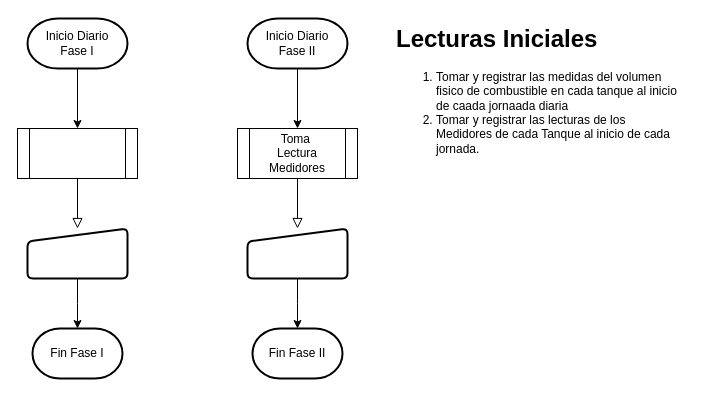
Some shapes in this 702 by 396 pixel diagram are drawn without their labels. Each missing label, with the centre of its shape:
"Registra lectura" belongs at (x=297, y=253).
"Registra Mediciones" belongs at (x=77, y=253).
"Toma Medición Niveles" belongs at (x=77, y=153).
